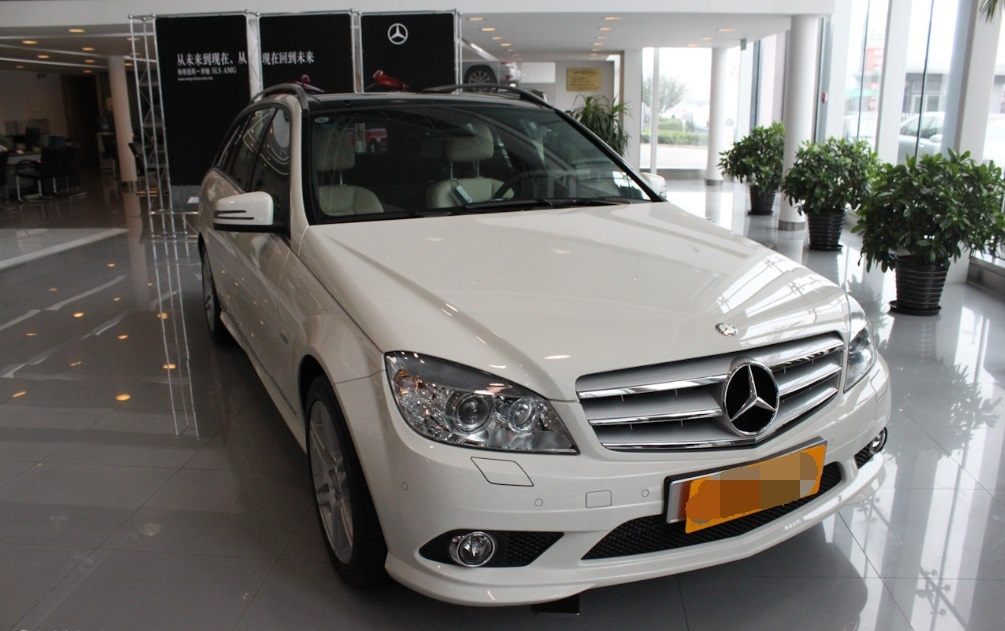family sedan: (135, 82, 902, 597)
